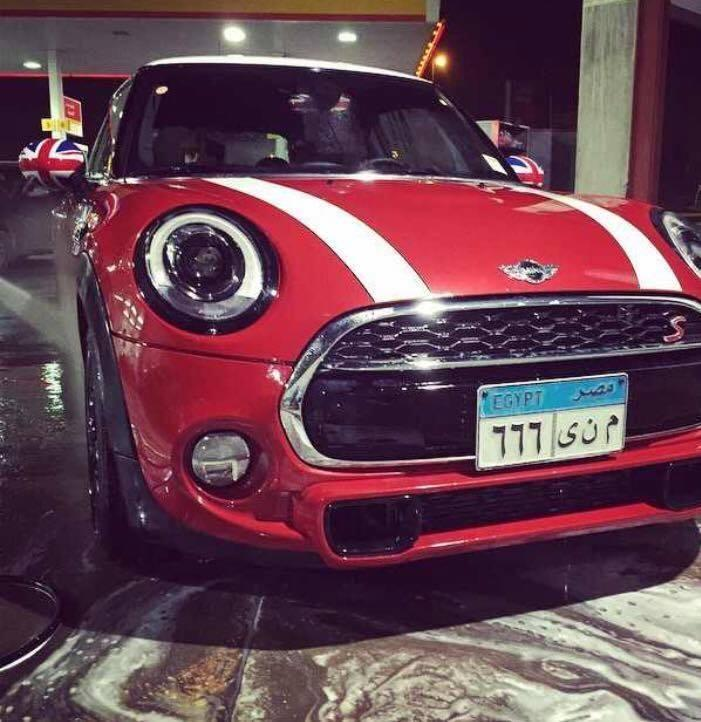6: (526, 419, 547, 457), (510, 421, 528, 459), (491, 424, 508, 459)
License Plate: (471, 370, 631, 476)
Meem: (605, 413, 619, 447)
Noon: (581, 417, 599, 446)
Yeeh: (558, 421, 580, 449)
car: (71, 56, 701, 589)
